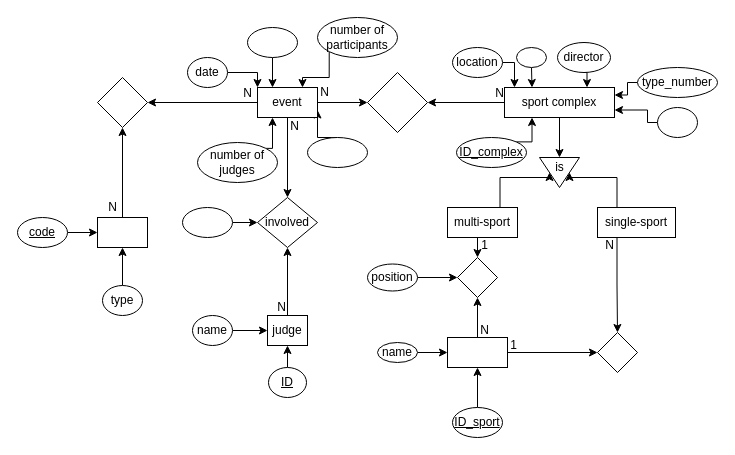
This 735x455 diagram has some shape labels left out. Here are the shapes that lost their labels. From the top down, the box of each, then its label:
(246, 26, 298, 58): duration
(516, 46, 546, 68): area
(96, 76, 148, 128): use
(366, 72, 428, 132): celebrate
(656, 106, 698, 138): budget
(306, 136, 368, 168): ID_event
(96, 216, 148, 248): material
(182, 206, 232, 238): function
(456, 256, 498, 298): has
(446, 336, 508, 368): sport
(596, 332, 638, 372): host
